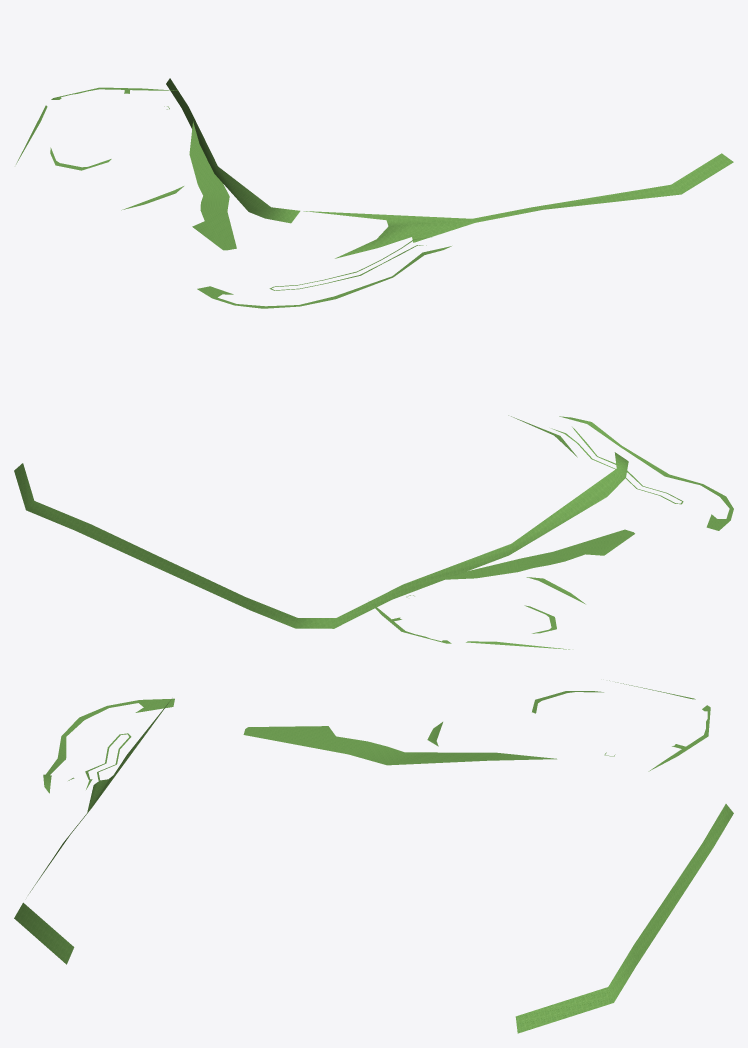
The model's file is kd_stage_1364a3_7_6.glb.
The picture shows the model from 3 angles, top to bottom: view 1: azimuth 30°, elevation 25°; view 2: azimuth 150°, elevation 25°; view 3: azimuth 270°, elevation 25°; orthographic projection. The views are drawn at different scales.
Parts seen in each view (by area): view 1: kd_stage_1364a3_7_6; view 2: kd_stage_1364a3_7_6; view 3: kd_stage_1364a3_7_6.
Part boxes in pixels (x1,y1,x2,y2): kd_stage_1364a3_7_6: (16,78,733,308); kd_stage_1364a3_7_6: (14,415,733,649); kd_stage_1364a3_7_6: (14,680,733,1033).
Size of the model in its own units: 397 by 36.93 by 326.
1 material, 1 textured.
